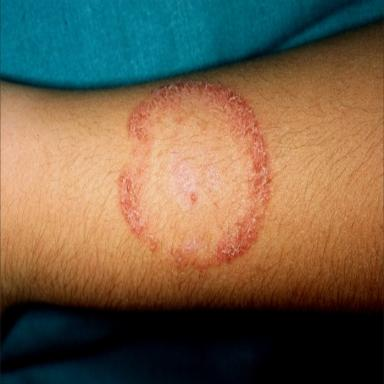Tinea-Corporis: (119, 82, 271, 267)
